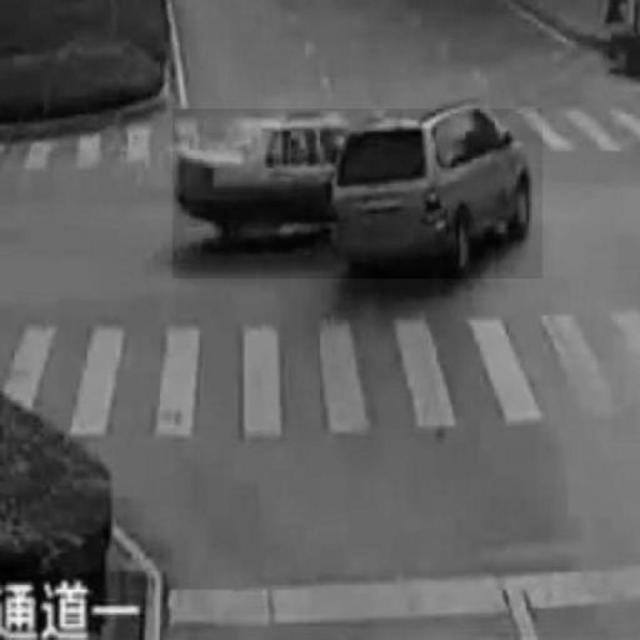accident: (172, 109, 543, 279)
